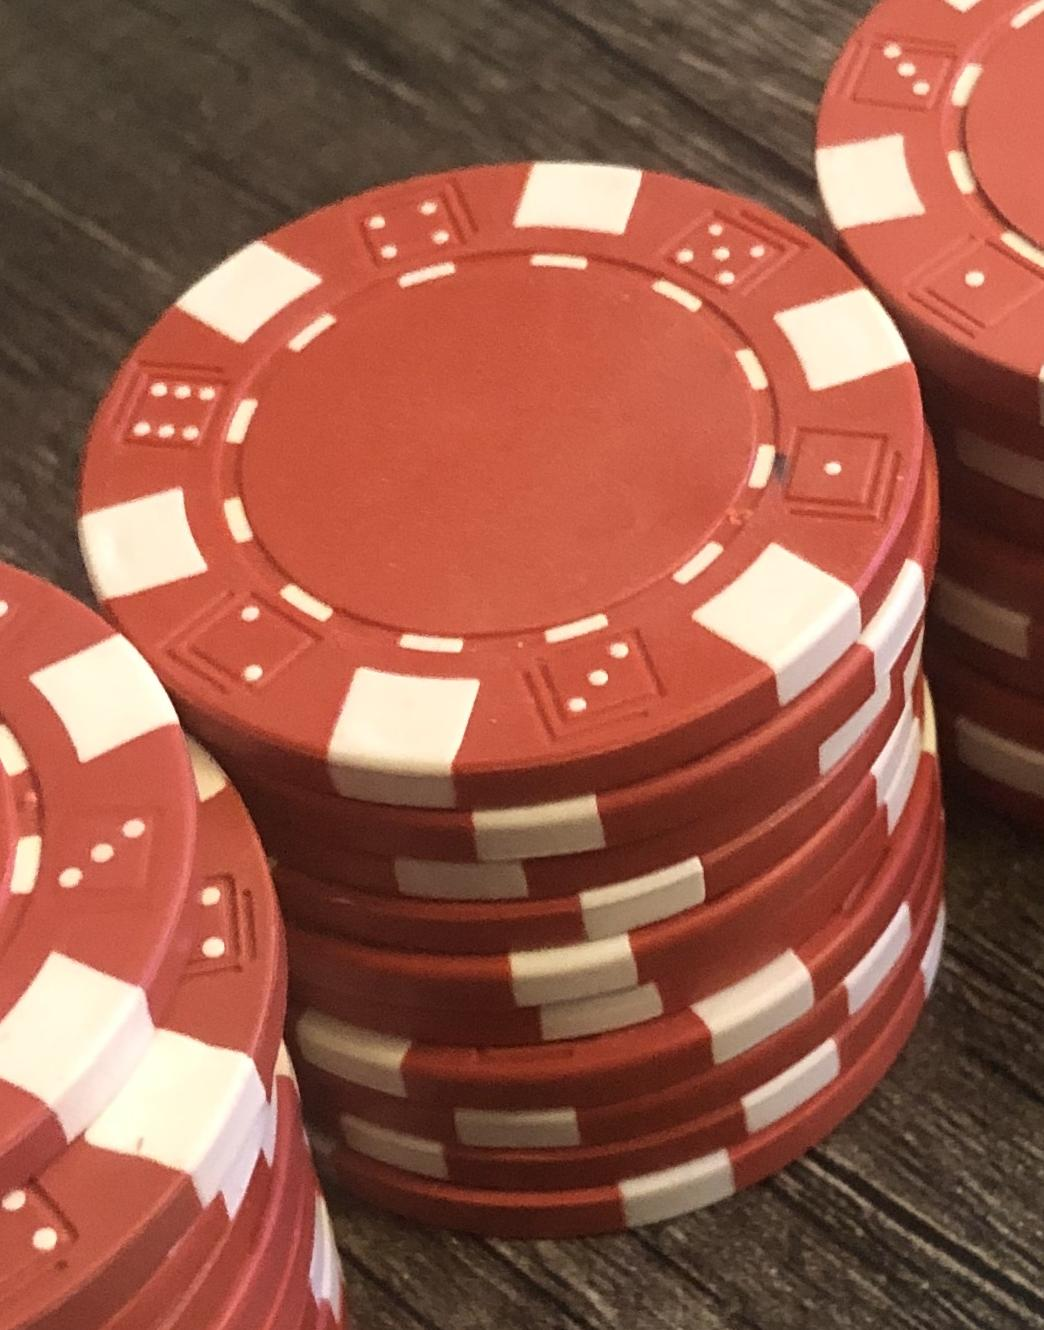Chip: (1, 1, 1044, 1330)
